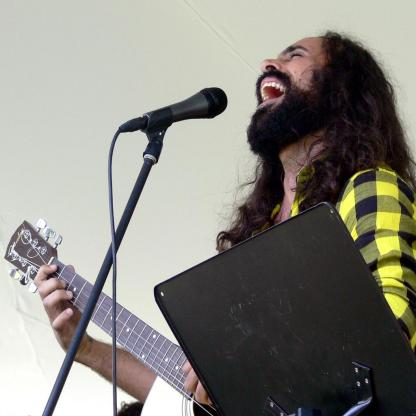board: (153, 198, 415, 416)
